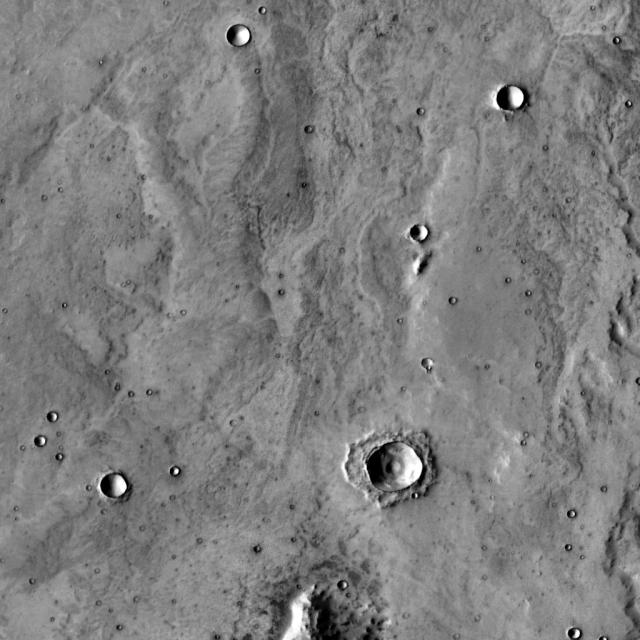crater: (371, 444, 425, 494), (500, 86, 528, 112), (104, 476, 130, 500), (230, 26, 254, 48), (414, 226, 432, 242), (390, 462, 404, 476), (50, 412, 63, 423), (426, 358, 438, 369), (38, 436, 50, 447), (573, 630, 585, 640), (342, 582, 352, 592), (174, 468, 184, 478), (59, 454, 68, 462), (310, 128, 318, 136), (572, 512, 580, 520), (263, 8, 271, 15), (446, 291, 453, 298), (250, 542, 258, 548), (611, 32, 618, 38), (414, 104, 421, 110), (356, 402, 363, 408)
